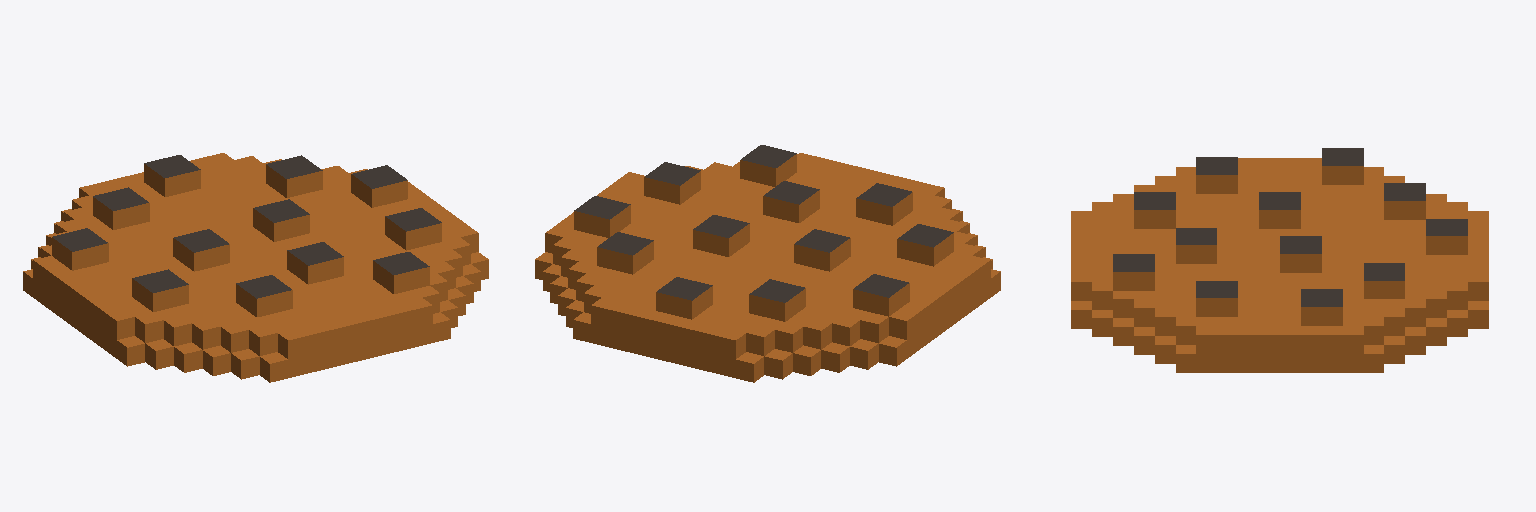
The picture shows the model from 3 angles: view 1: azimuth 30°, elevation 25°; view 2: azimuth 150°, elevation 25°; view 3: azimuth 270°, elevation 25°; orthographic projection.
Visible parts, largest first — view 1: Model; view 2: Model; view 3: Model.
Boxes of the visible parts, x1=… form: Model: x1=23, y1=153, x2=488, y2=382; Model: x1=535, y1=145, x2=1000, y2=382; Model: x1=1071, y1=148, x2=1488, y2=372.
Bounding box in the file's own units: 20 × 3 × 20.
1 materials, 1 textured.